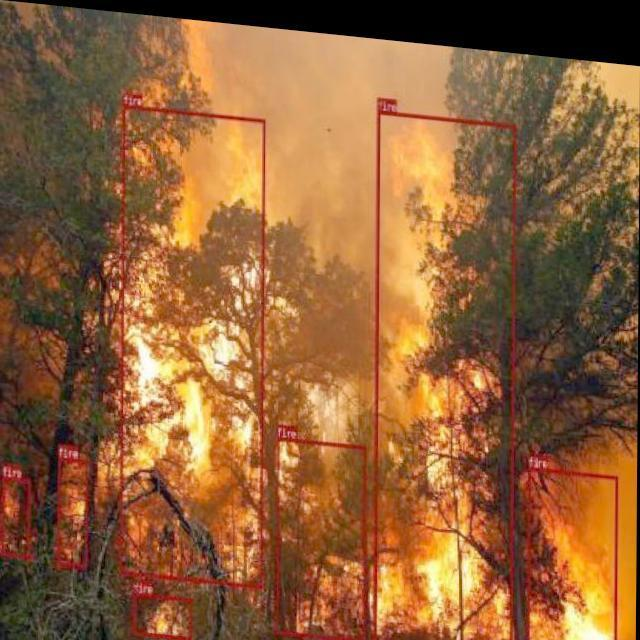Fire: (365, 88, 518, 627), (115, 101, 249, 570), (380, 456, 631, 640)
Smoke: (147, 14, 483, 543)
